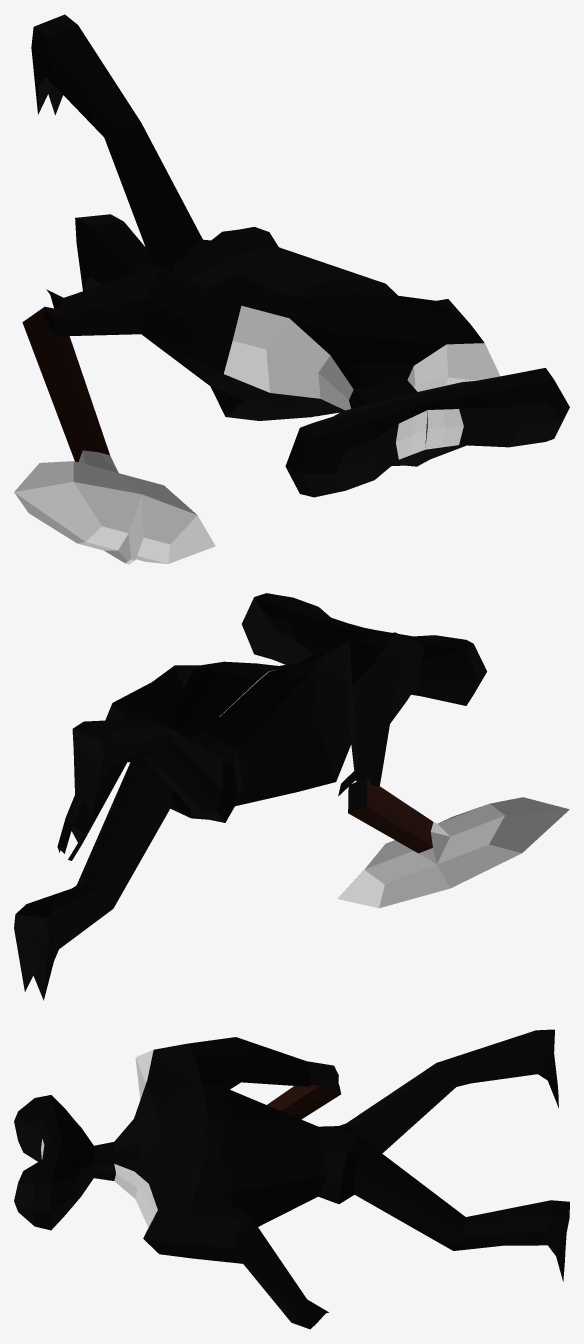
The model's file is Giant1w.obj.
3 renders of one model, top to bottom at view 1: azimuth 30°, elevation 25°; view 2: azimuth 150°, elevation 25°; view 3: azimuth 270°, elevation 25°, orthographic. The views are drawn at different scales.
Visible parts, largest first — view 1: Cube; view 2: Cube; view 3: Cube.
Boxes of the visible parts, box(x1,y1,x2,y2) form: Cube: box(14, 14, 569, 564); Cube: box(14, 593, 569, 1000); Cube: box(14, 1029, 569, 1329).
Size of the model in its own units: 1.17 by 0.7724 by 1.55.
